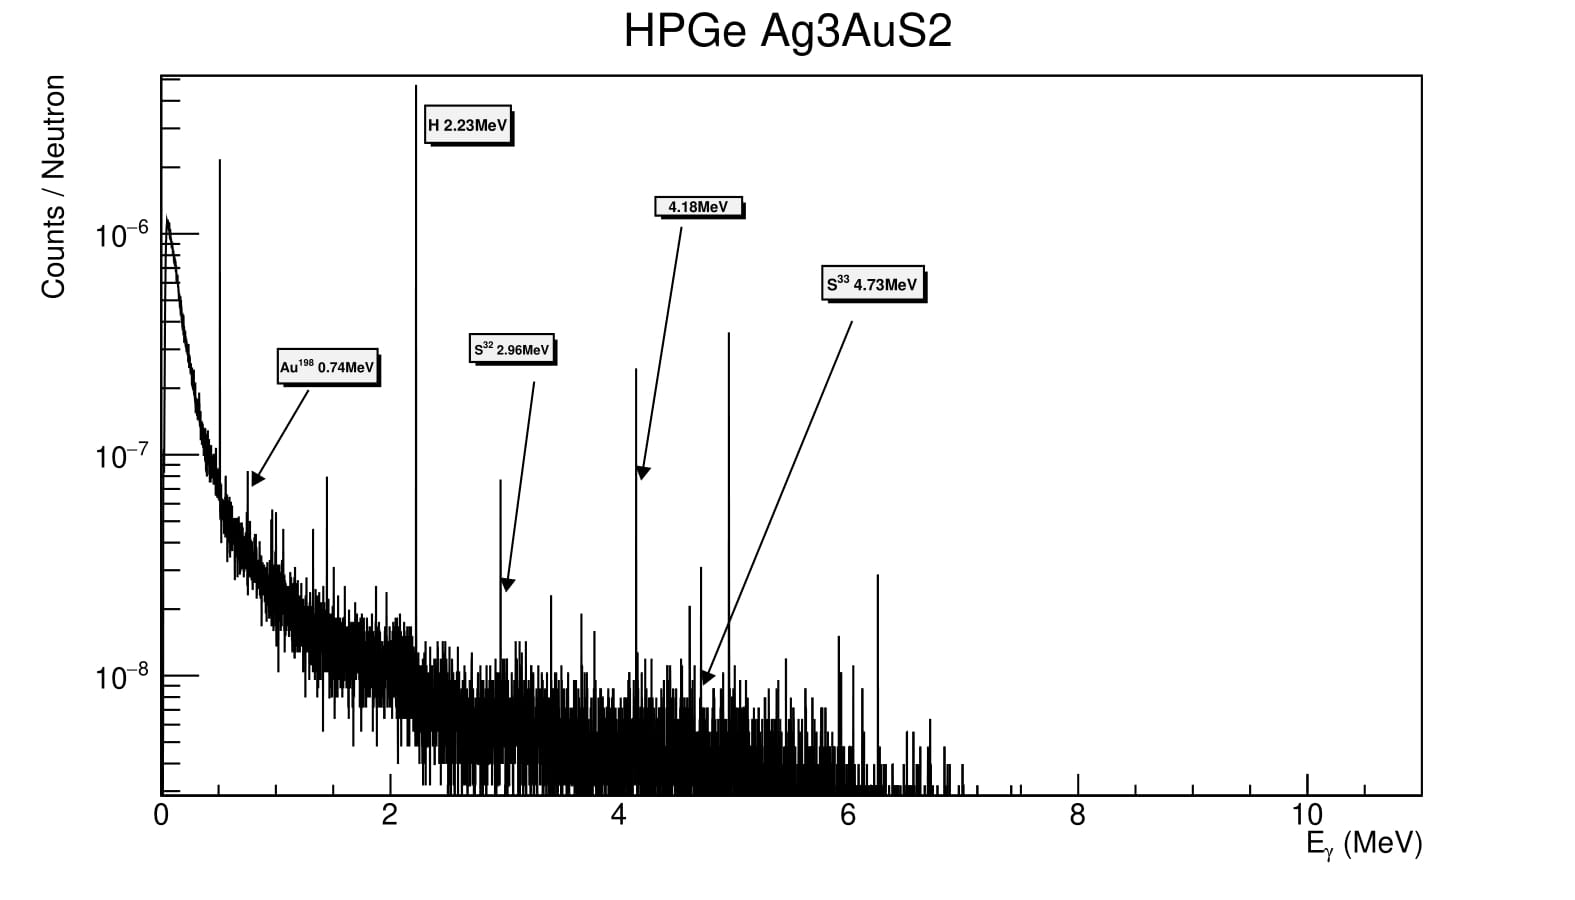gauss: (402, 81, 441, 670), (714, 325, 751, 738), (207, 146, 235, 527), (862, 568, 902, 816), (314, 471, 352, 657), (628, 357, 643, 729)
